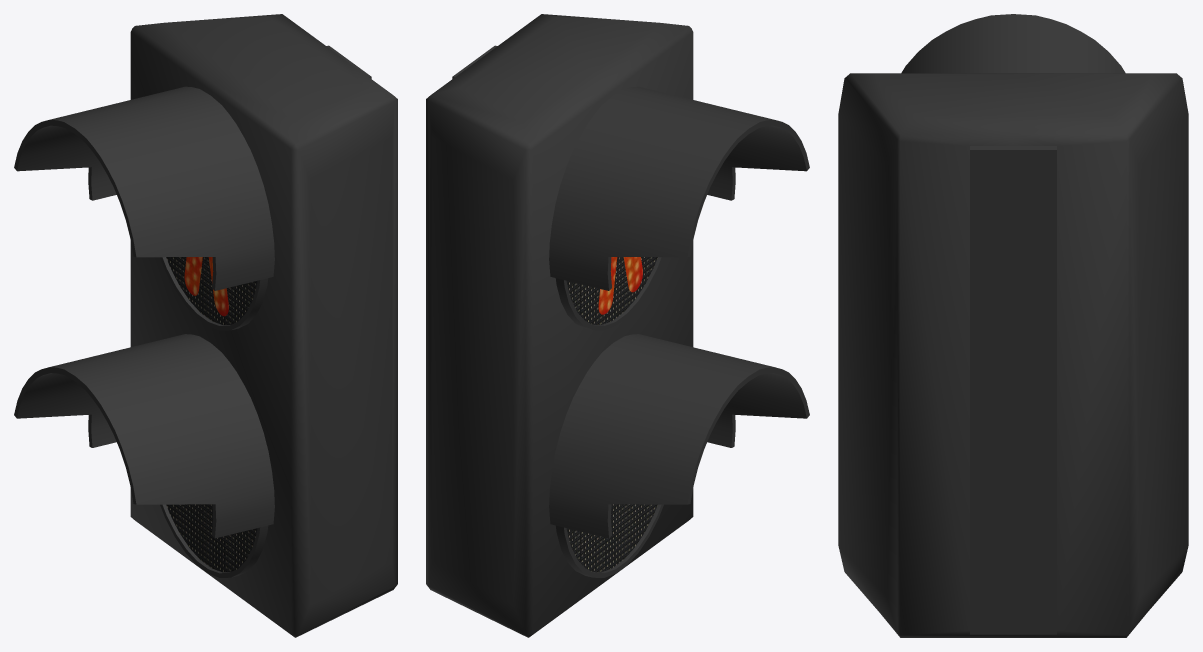
Rendered from 竖排人行灯_RedLight.fbx.
3 renders of one model, left to right at view 1: azimuth 30°, elevation 25°; view 2: azimuth 150°, elevation 25°; view 3: azimuth 270°, elevation 25°, orthographic.
Parts seen in each view (by area): view 1: 竖排人行灯_RedLight; view 2: 竖排人行灯_RedLight; view 3: 竖排人行灯_RedLight.
Part boxes in pixels (x1,y1,x2,y2): 竖排人行灯_RedLight: (14, 14, 397, 637); 竖排人行灯_RedLight: (426, 14, 809, 637); 竖排人行灯_RedLight: (838, 14, 1188, 637).
Size of the model in its own units: 0.6 by 1.06 by 0.65.
Materials: 3 (2 with a texture image).
